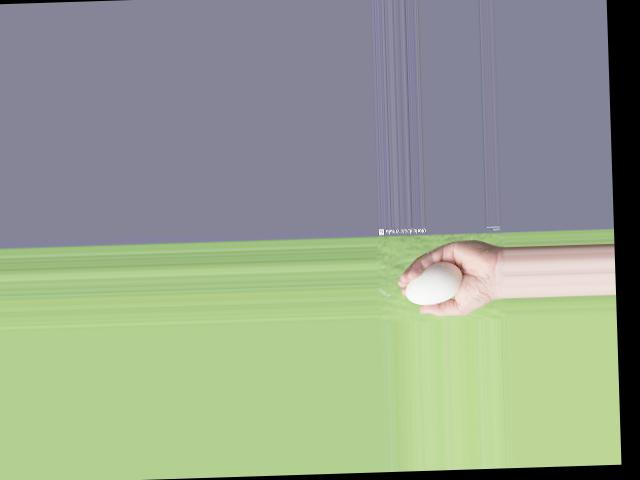egg: (405, 260, 464, 305)
